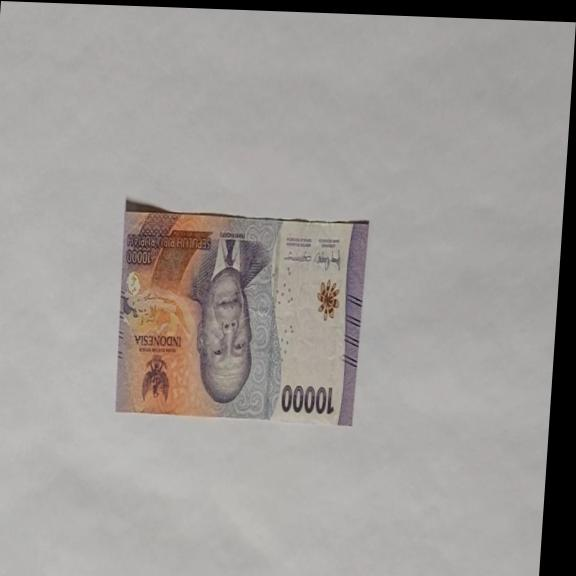Kertas: (110, 206, 369, 429), (279, 381, 336, 417)
